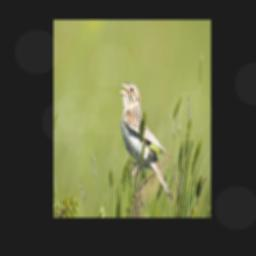Sparrow: (118, 80, 172, 199)
